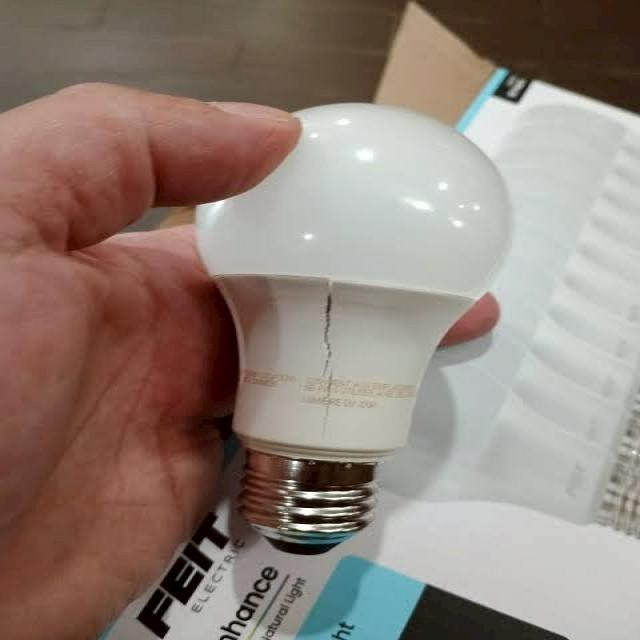bulb: (178, 111, 506, 563)
